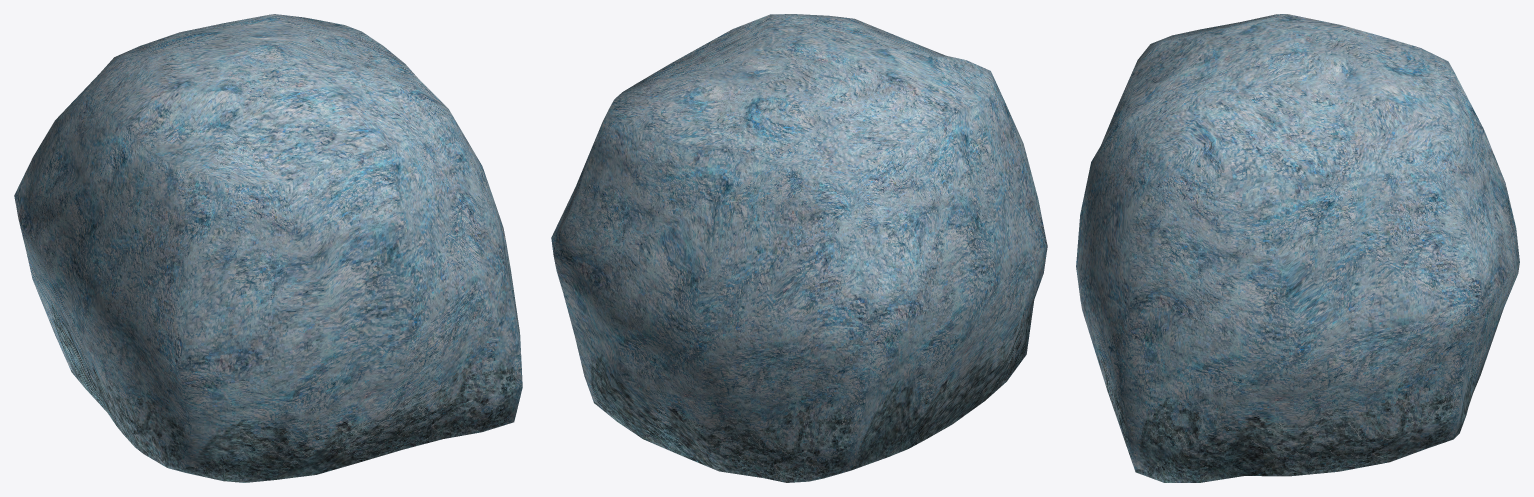
The model's file is thm_all_cavewall_ice_a1_l0.fbx.
The picture shows the model from 3 angles, left to right: view 1: azimuth 30°, elevation 25°; view 2: azimuth 150°, elevation 25°; view 3: azimuth 270°, elevation 25°; orthographic projection. The views are drawn at different scales.
Visible parts, largest first — view 1: mesh_node; view 2: mesh_node; view 3: mesh_node.
Part boxes in pixels (<box>): mesh_node: <box>14,14,522,482</box>; mesh_node: <box>551,14,1047,482</box>; mesh_node: <box>1076,14,1519,482</box>.
Size of the model in its own units: 11.24 by 10.79 by 11.11.
